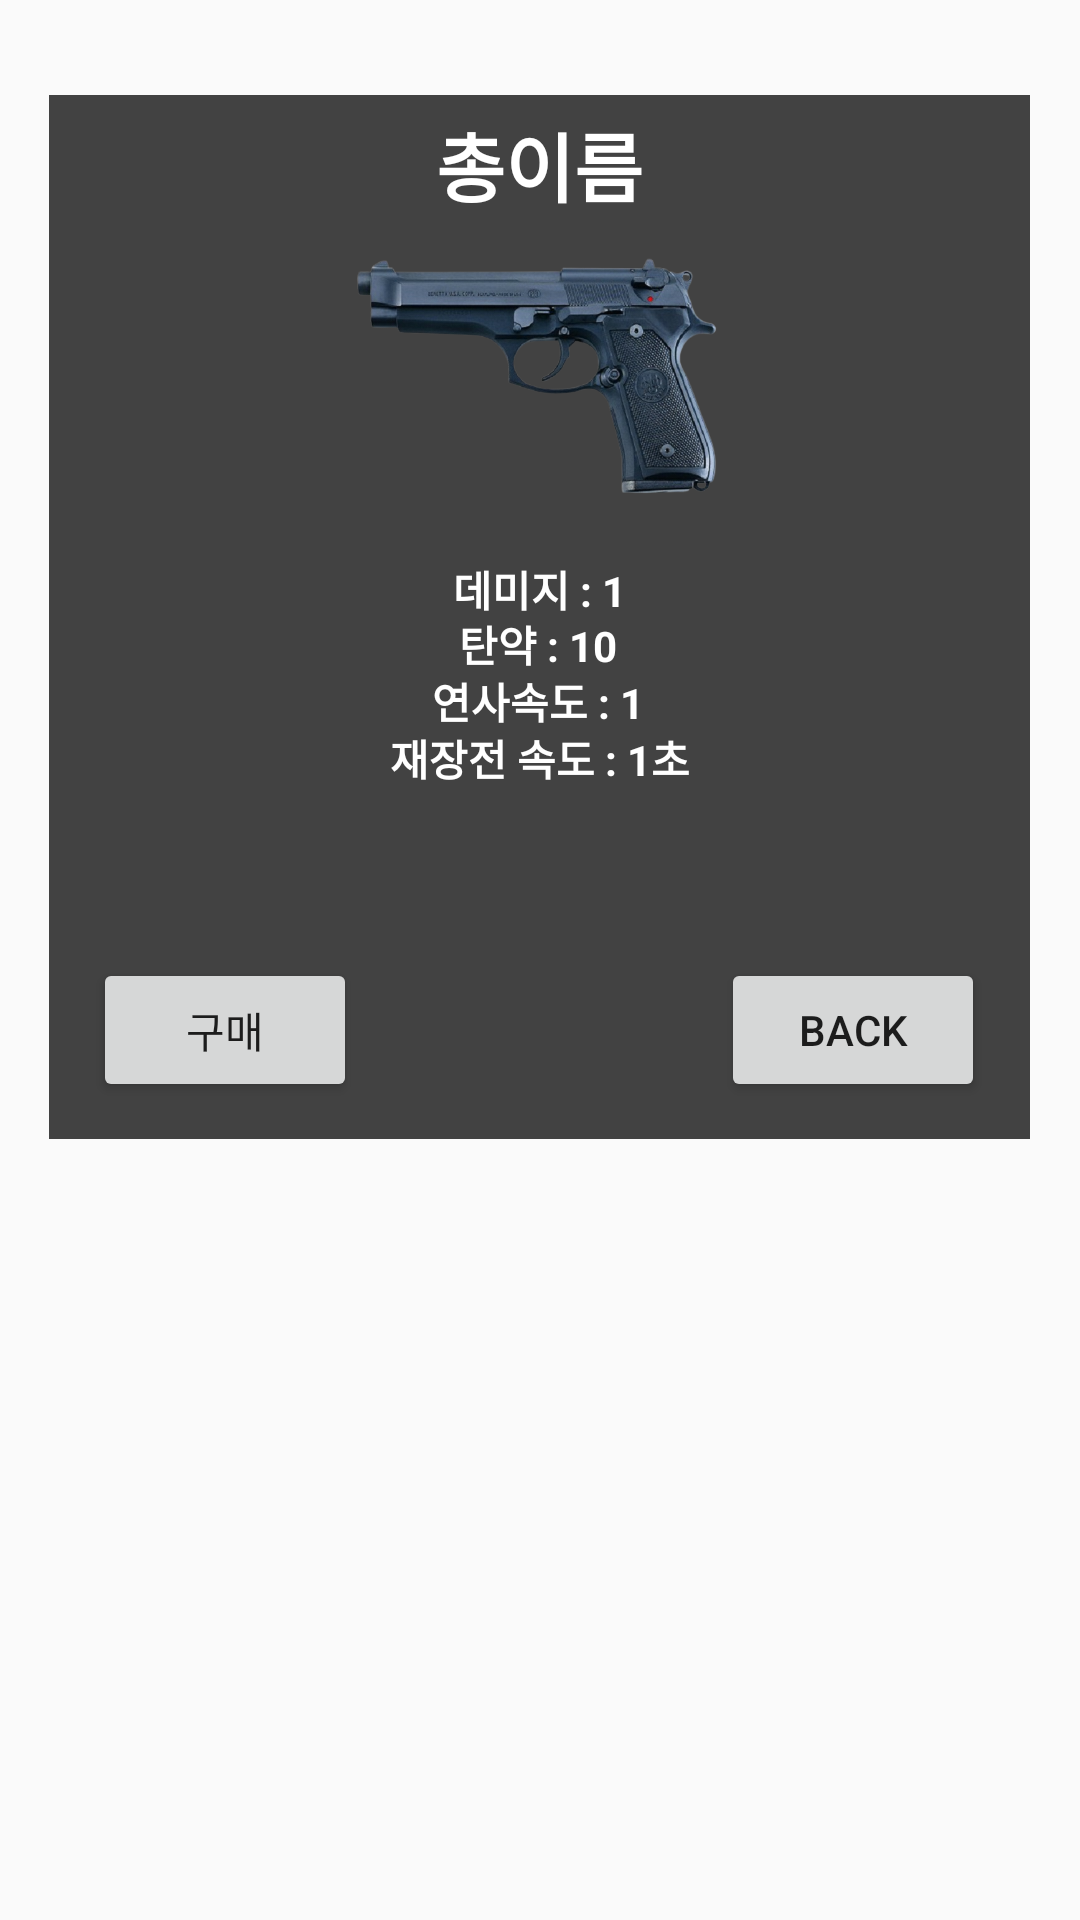

Screen size 1080w x 1920h. Icon name, then its box in pixels as (x1, y1, x2, y2):
gun: (357, 259, 716, 493)
